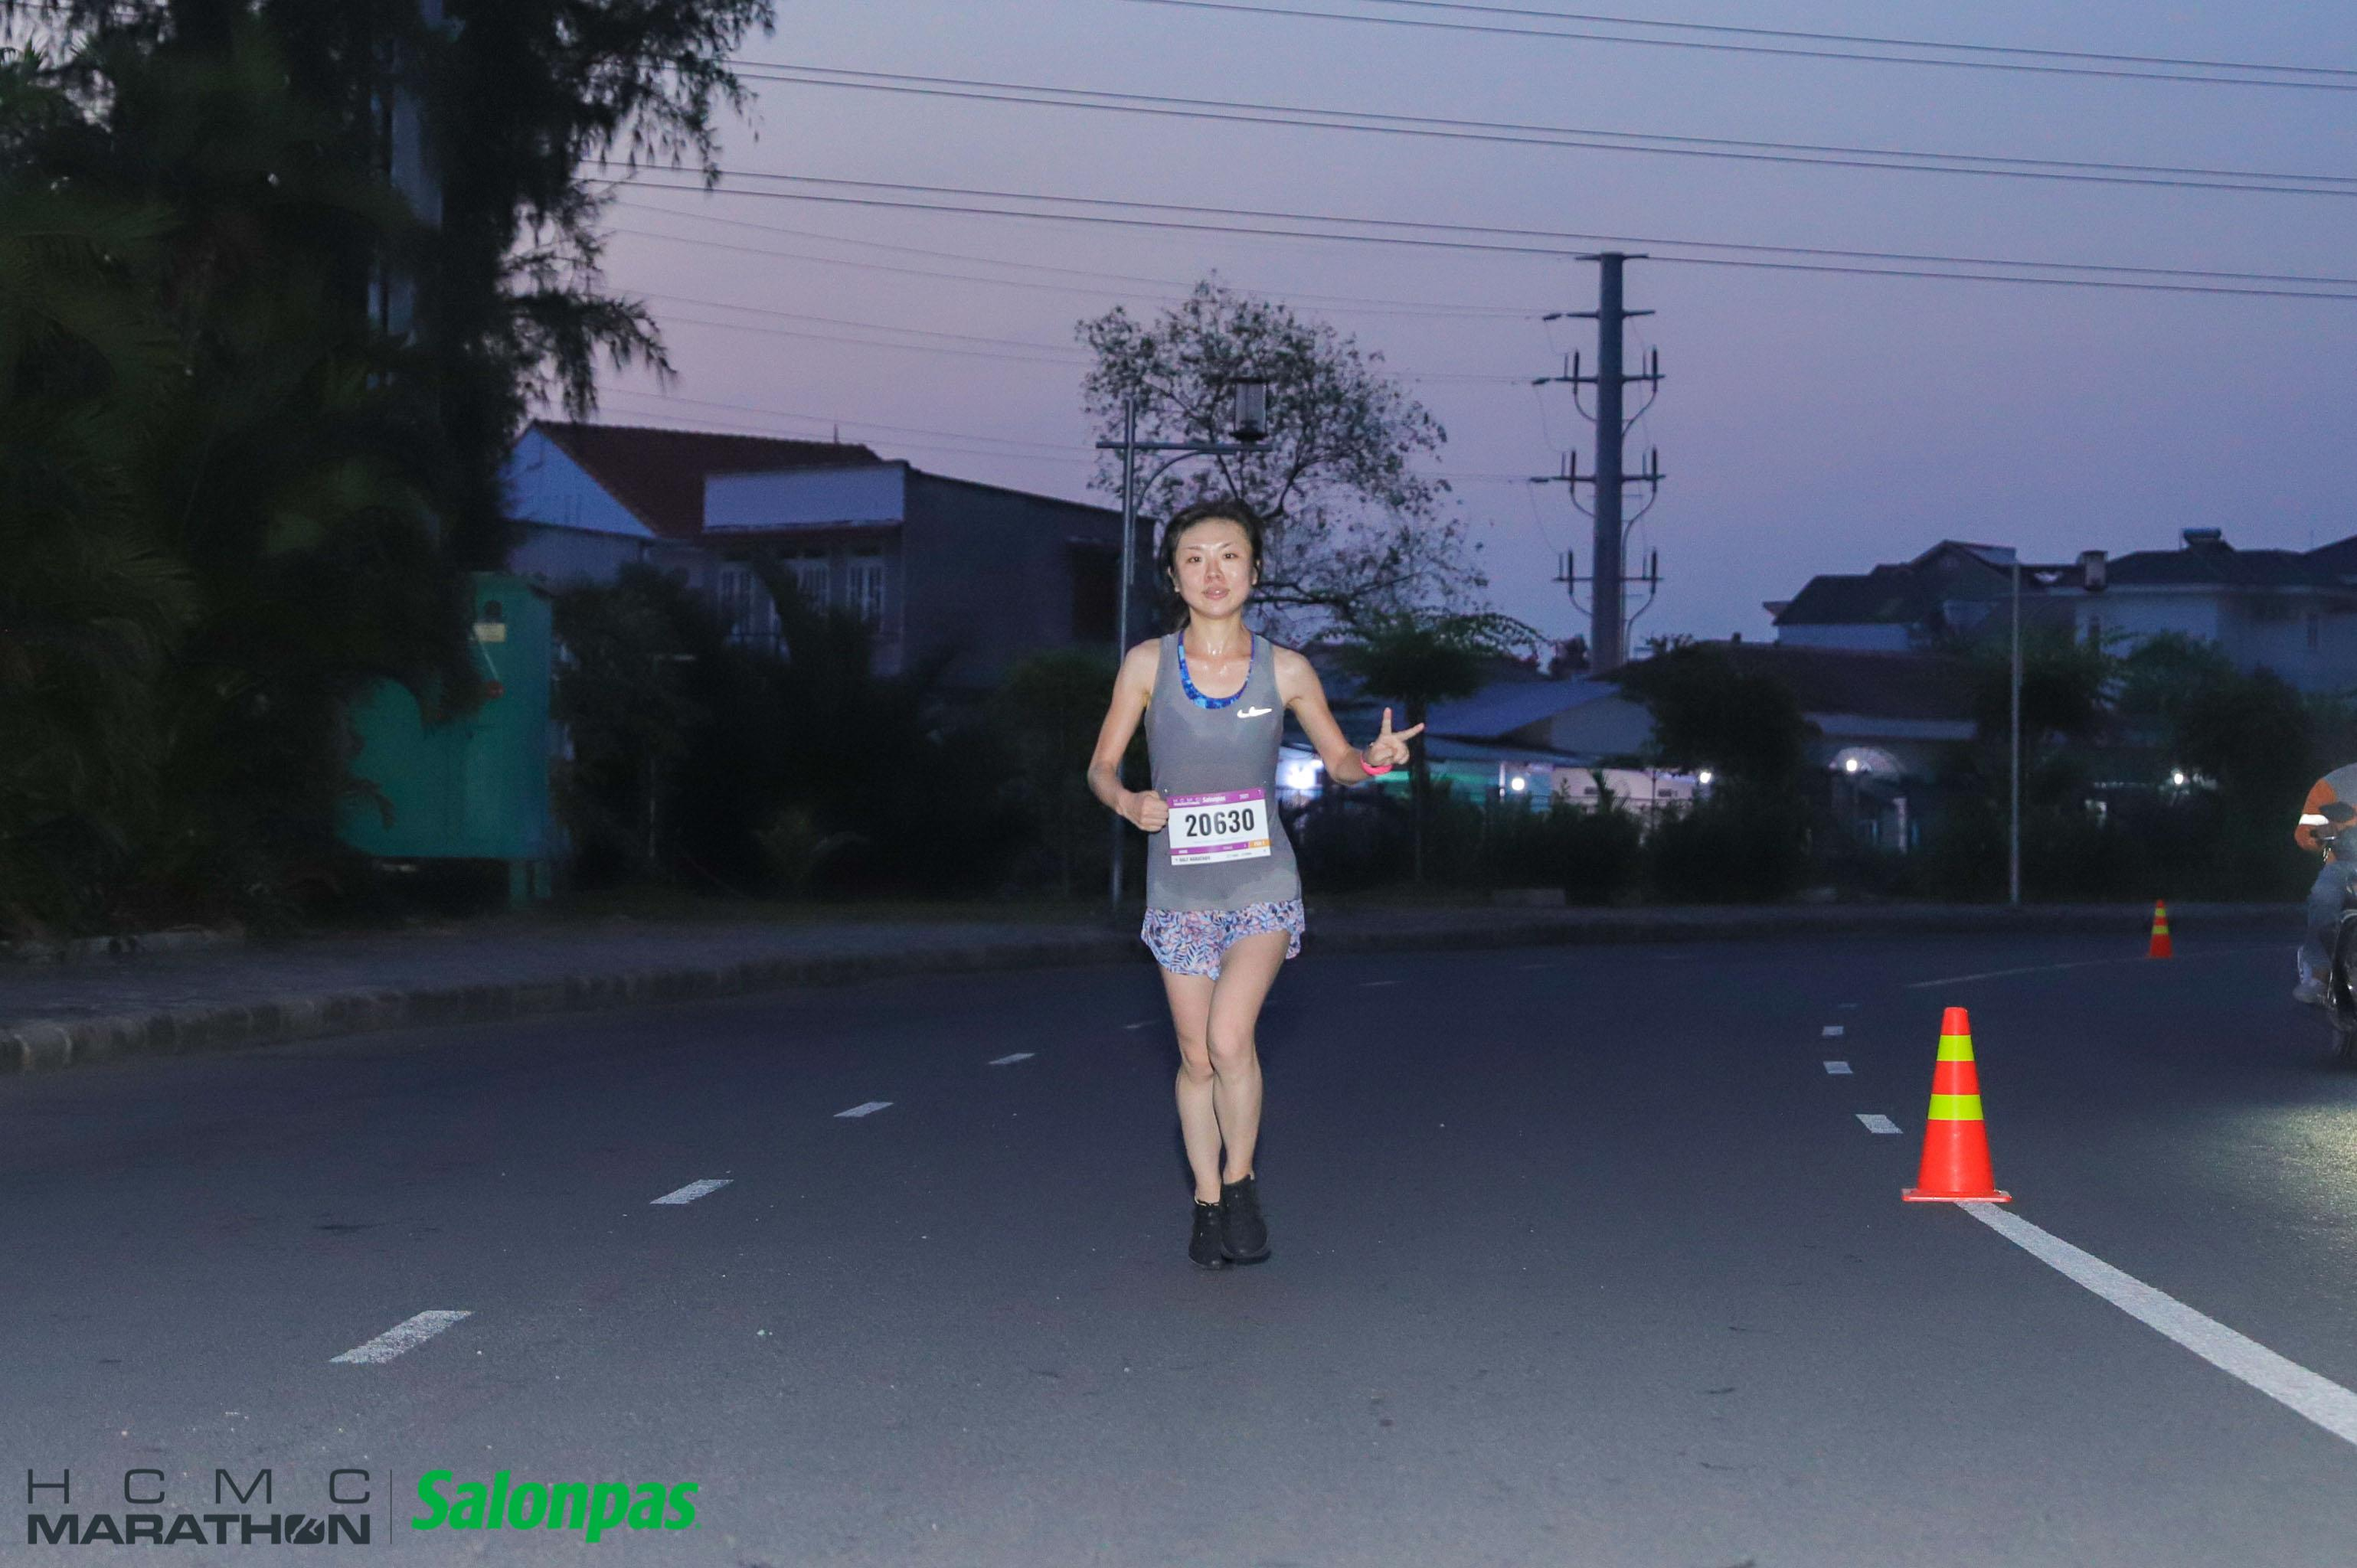bib: (1165, 789, 1270, 868)
